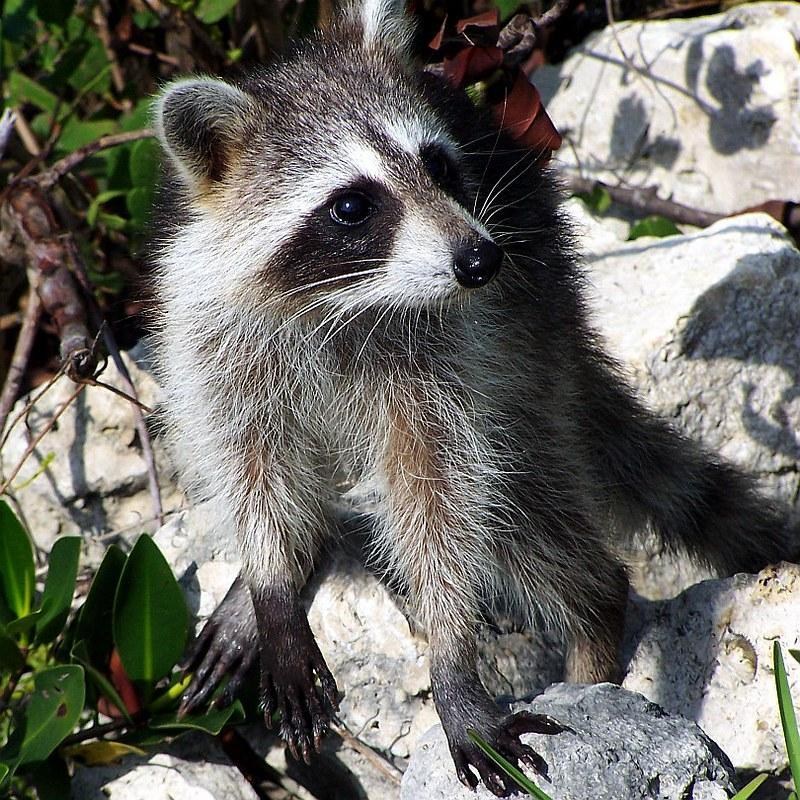raccoon: (132, 4, 799, 789)
